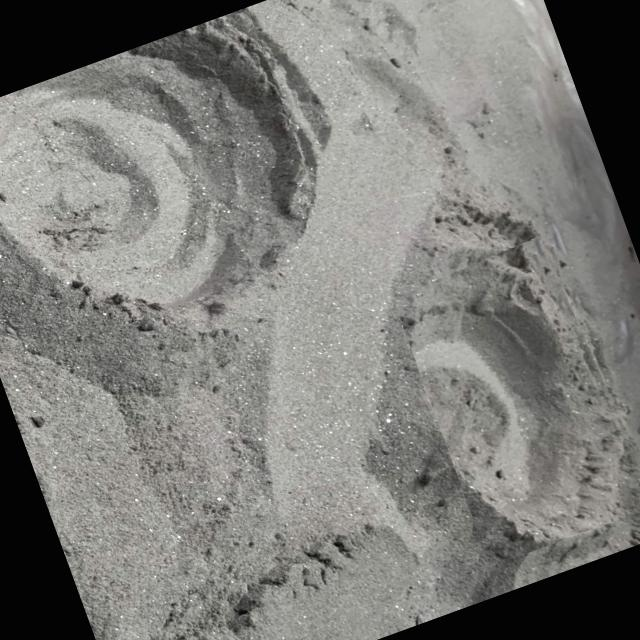C20: (0, 12, 310, 308), (411, 258, 625, 538)
